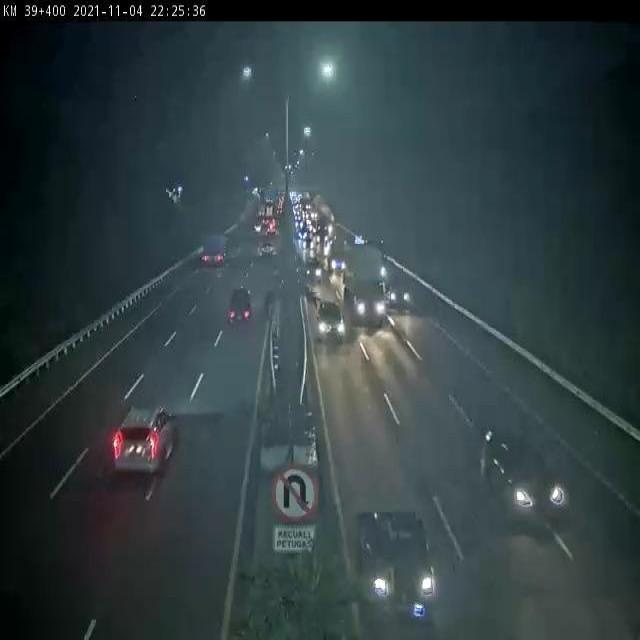car: (354, 508, 437, 623), (483, 430, 567, 530), (113, 405, 179, 475), (314, 300, 347, 347), (382, 272, 415, 312), (228, 289, 255, 327), (327, 239, 348, 277), (303, 256, 324, 281), (257, 241, 274, 260)
truck-s-: (202, 229, 229, 271)
truck-xl-: (342, 244, 383, 329)
